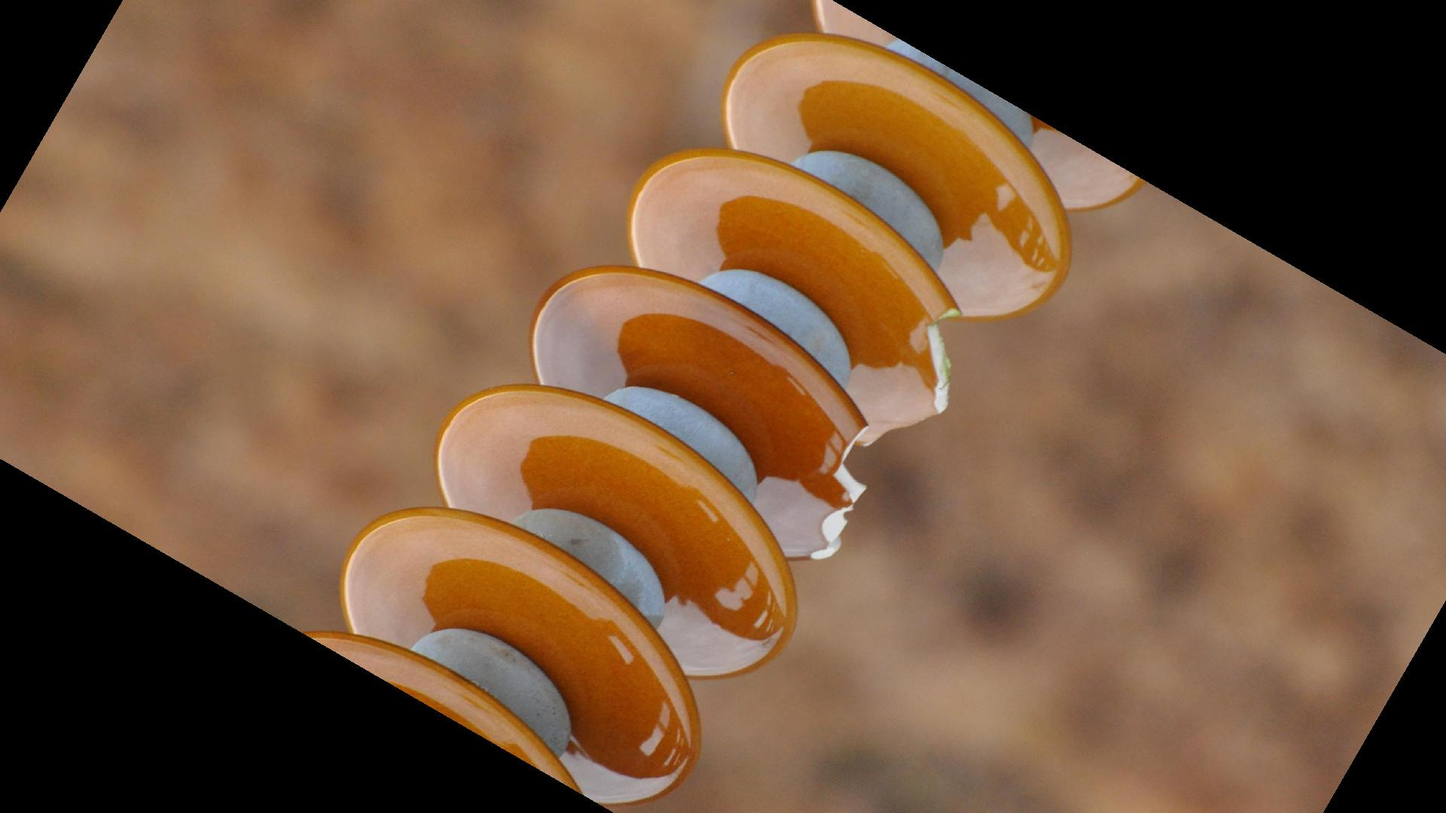insulator: (290, 1, 1151, 813)
insulator_breakage: (868, 294, 973, 458), (798, 410, 885, 572)
